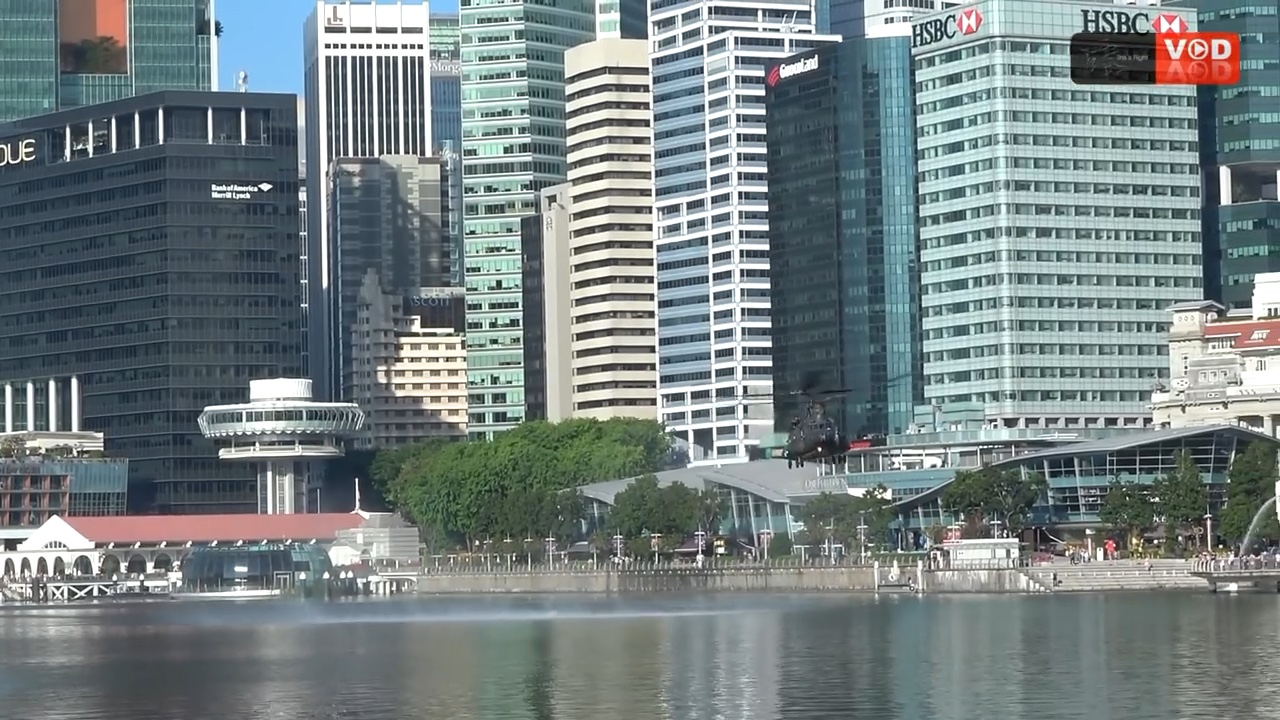chinook: (689, 372, 935, 470)
